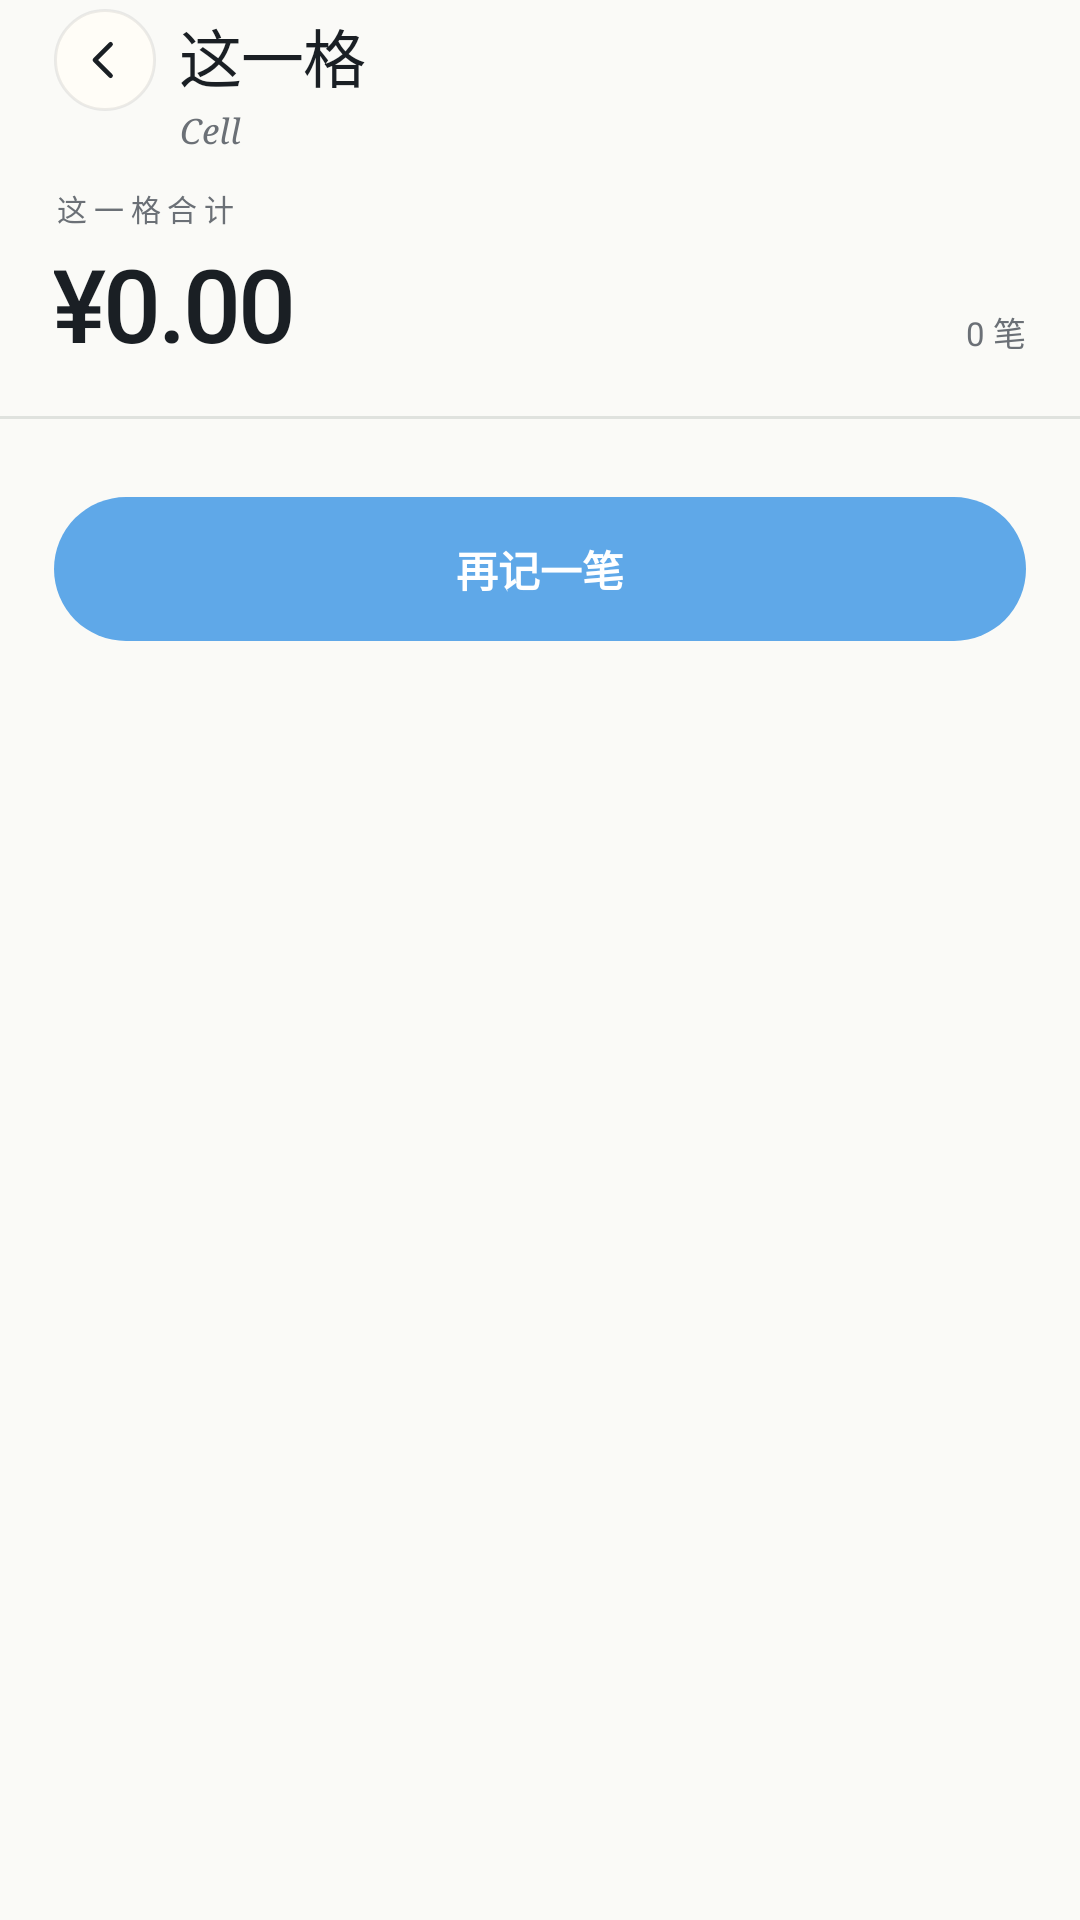

Icons on this 1080w x 1920h Android screen, each with its box as Rect(x1, y1, x2, y2):
返回: Rect(92, 42, 113, 78)
